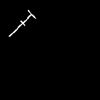double_crochet: (10, 10, 34, 35)
